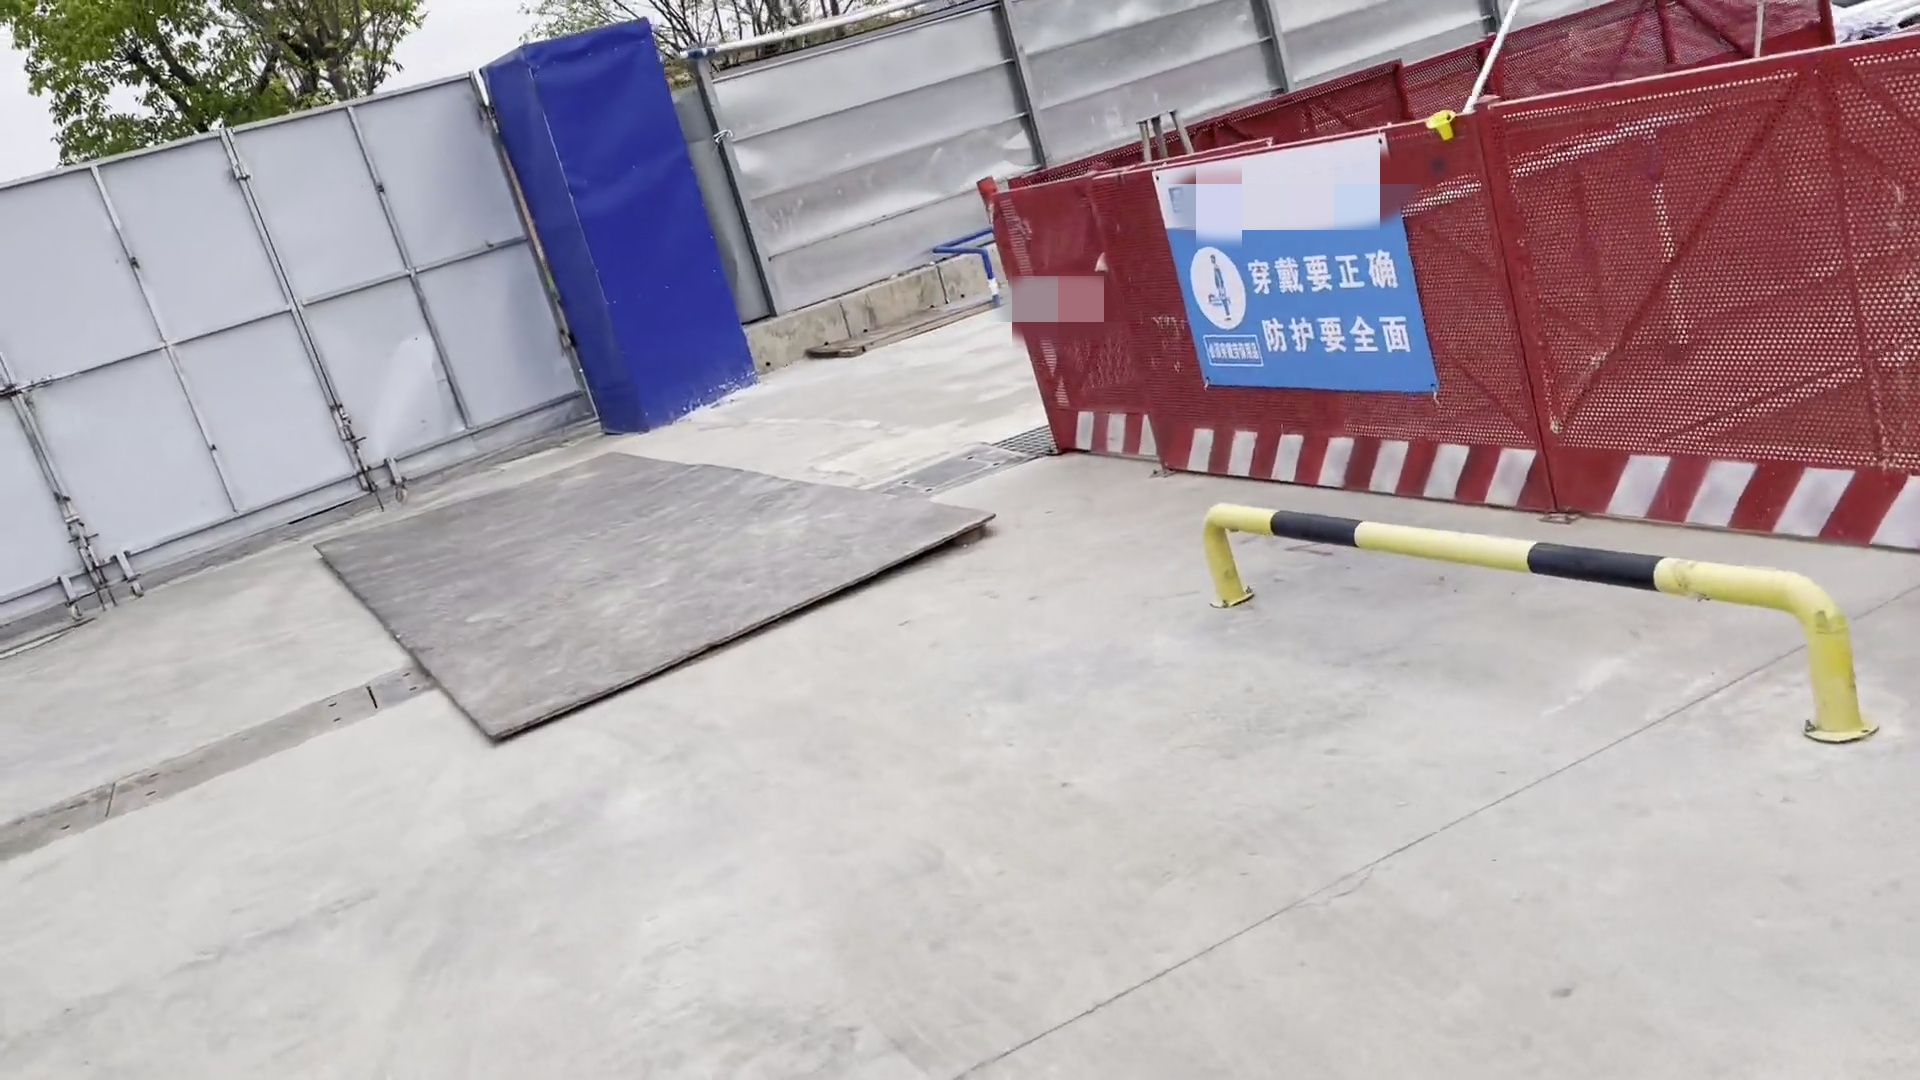fence: (964, 167, 1920, 568), (1287, 32, 1920, 214), (1491, 1, 1844, 74)
slogan: (1150, 204, 1453, 409)
